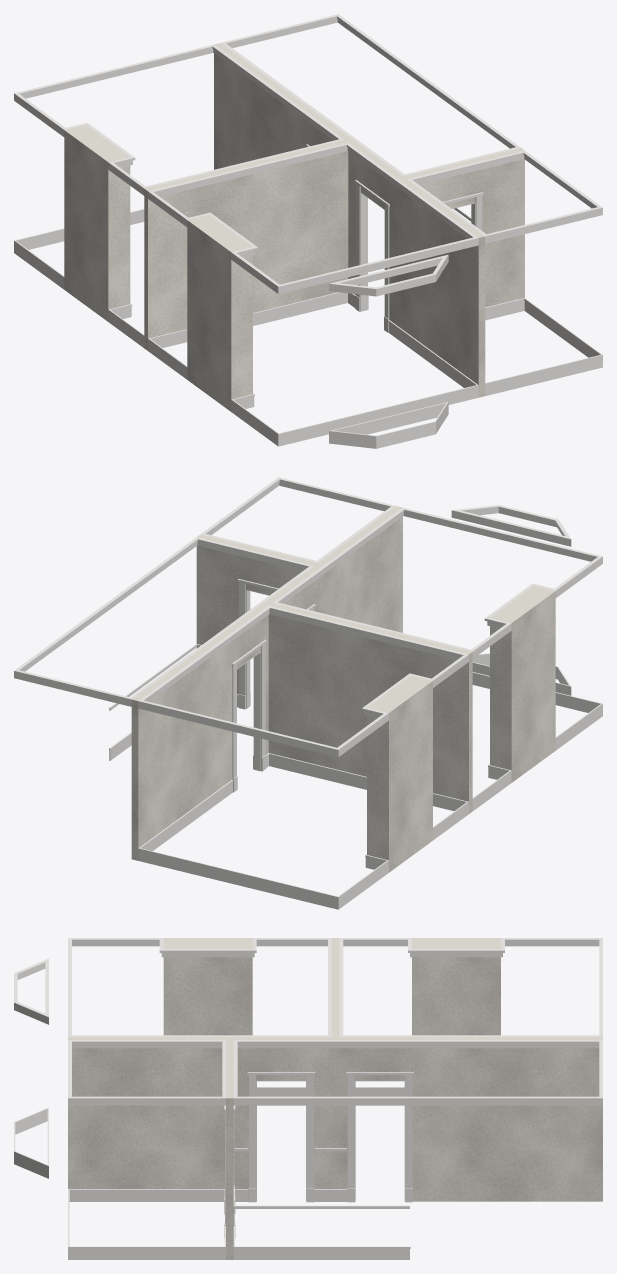
The model's file is walls_1_r.glb.
3 views of the same model, one above another, from view 1: azimuth 30°, elevation 25°; view 2: azimuth 150°, elevation 25°; view 3: azimuth 270°, elevation 25° (orthographic).
Parts seen in each view (by area): view 1: walls_1_r_plaster, walls_1_r_trim; view 2: walls_1_r_plaster, walls_1_r_trim; view 3: walls_1_r_plaster, walls_1_r_trim.
Boxes of the visible parts, left/top/right/bottom form: walls_1_r_plaster: left=64, top=43, right=524, bottom=411; walls_1_r_trim: left=14, top=14, right=602, bottom=448; walls_1_r_plaster: left=131, top=506, right=555, bottom=872; walls_1_r_trim: left=14, top=477, right=602, bottom=909; walls_1_r_plaster: left=68, top=938, right=602, bottom=1259; walls_1_r_trim: left=14, top=938, right=602, bottom=1259.
Size of the model in its own units: 5.95 by 2.8 by 9.25.
Materials: 2 (1 with a texture image).
